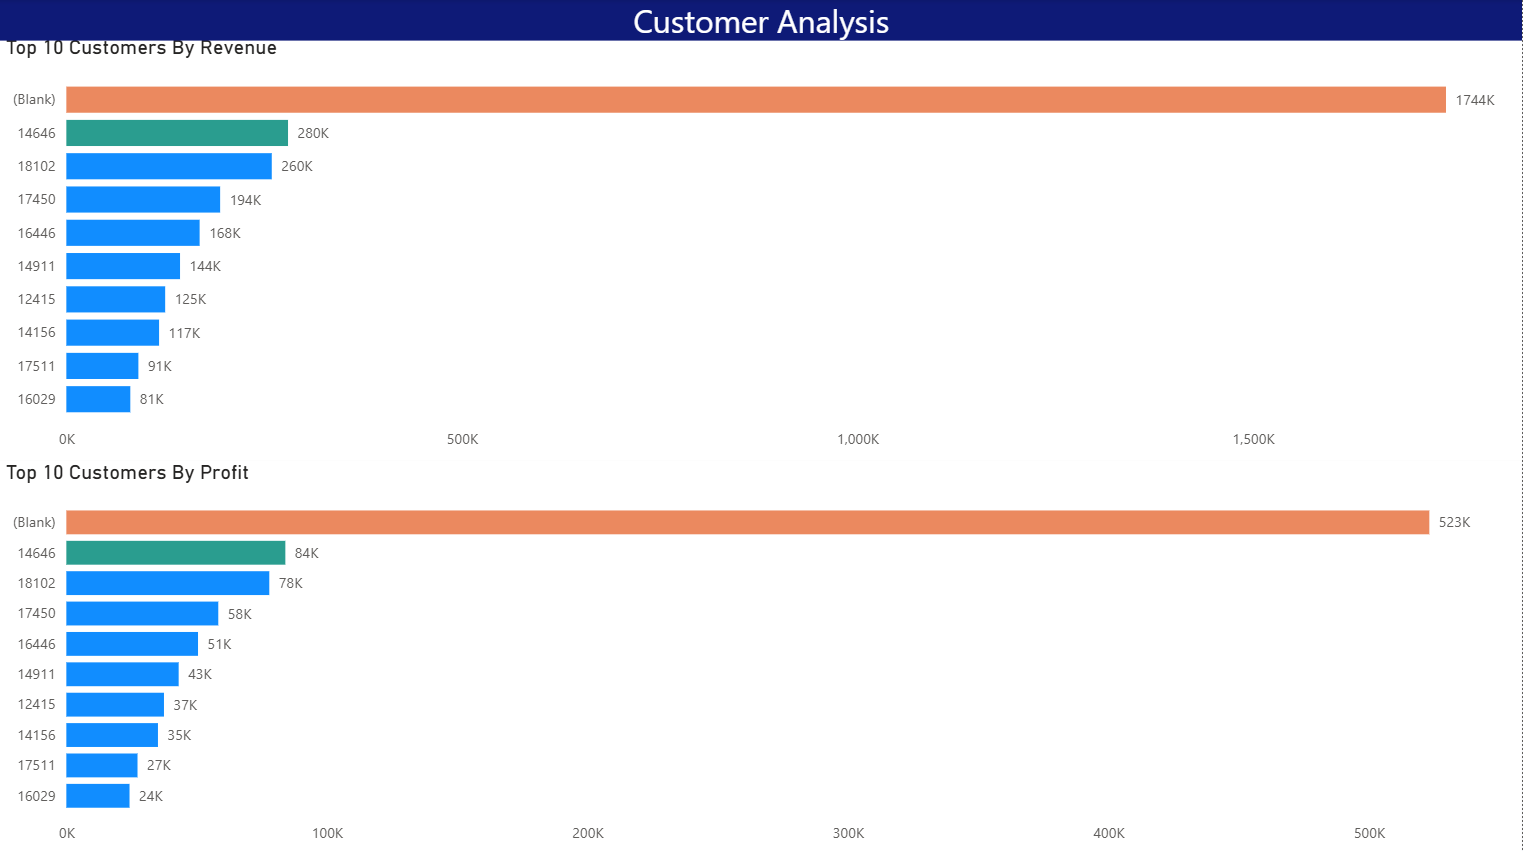

This screenshot's page, from the dashboard's own definition file:
{"tool":"powerbi","page":{"name":"Customer Analysis","canvas":[1280,720],"ordinal":2},"visuals":[{"type":"clusteredBarChart","title":"Top 10 Customers By Revenue","fields":{"Category":["cleaned_retail_data.Customer ID"],"Y":["Sum(cleaned_retail_data.Revenue)"]},"box":[0,30.5,1280.5,357.9],"z":0},{"type":"clusteredBarChart","title":"Top 10 Customers By Profit","fields":{"Category":["cleaned_retail_data.Customer ID"],"Y":["Sum(cleaned_retail_data.Profit)"]},"box":[0,388.3,1280.3,332.1],"z":1000},{"type":"shape","box":[0,0,1280.5,30.5],"z":2000}]}

Visuals, with their boxes in screenshot pixels (x1, y1, x2, y2), scaled from the page's 1280x720 canvas onto the 1523x851 screenshot:
"Top 10 Customers By Revenue" clusteredBarChart: {"left": 0, "top": 36, "right": 1522, "bottom": 459}
"Top 10 Customers By Profit" clusteredBarChart: {"left": 0, "top": 459, "right": 1522, "bottom": 850}
shape: {"left": 0, "top": 0, "right": 1522, "bottom": 36}
